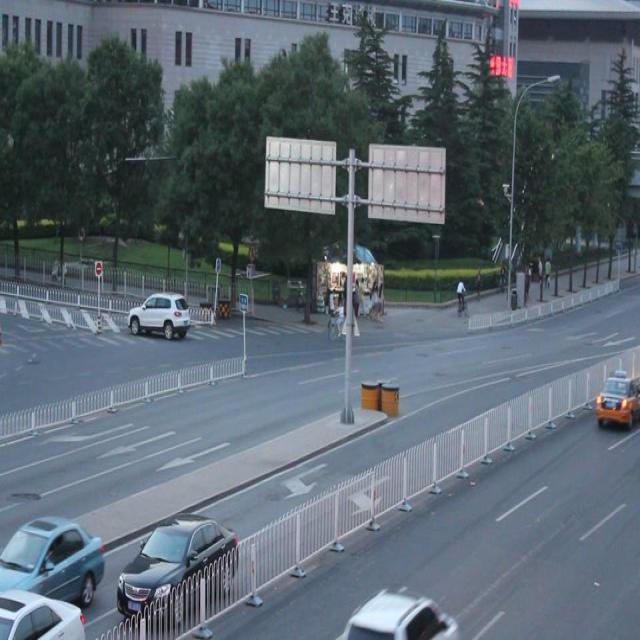car: (118, 511, 242, 621), (0, 506, 104, 610), (328, 579, 455, 640), (1, 582, 85, 640), (128, 289, 190, 340), (594, 365, 640, 430)
